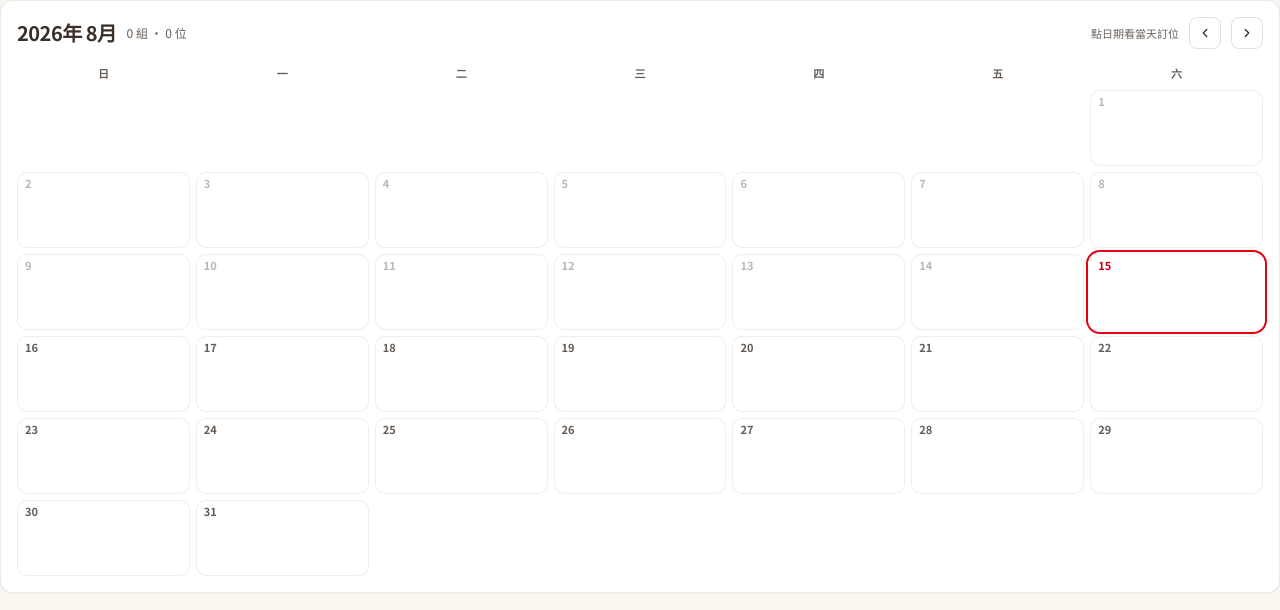
it: CalendarView：日曆選定日期後的「＋ 新增訂位」入口 › 過去日期且 0 筆訂位：空狀態也不該給新增入口
Click the button "10". click: (282, 292)
box: top-left (196, 254), bottom-right (369, 330)
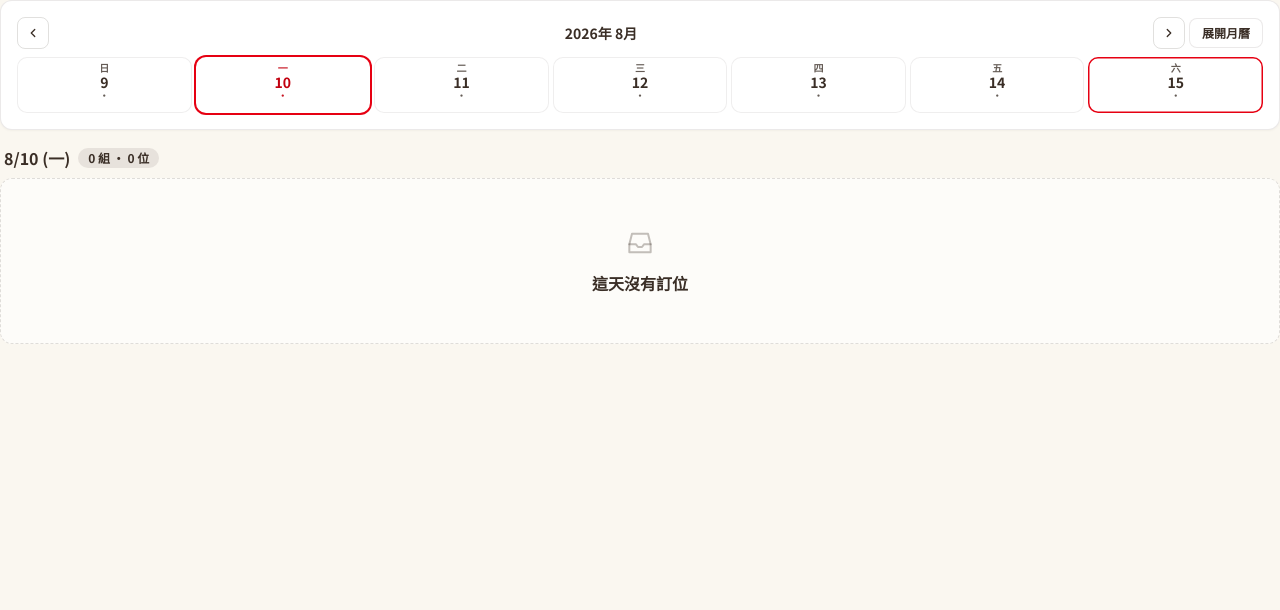
Expected: the text "這天沒有訂位" is shown, top-left (592, 271), bottom-right (688, 295)
